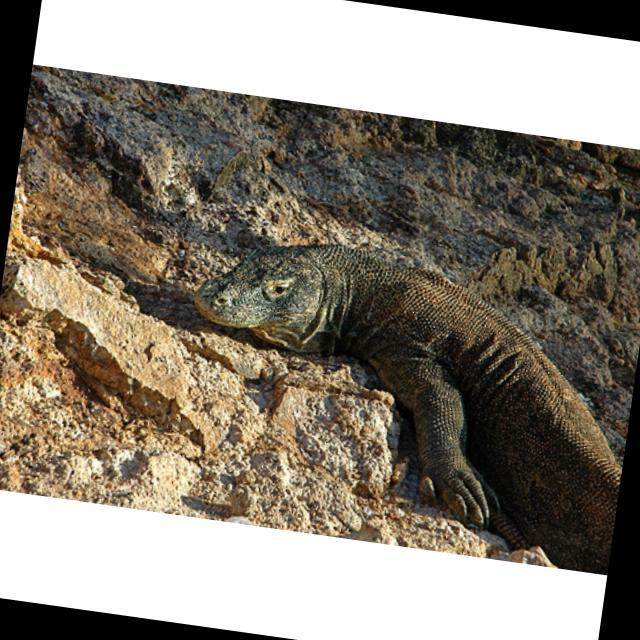KomodoDragon: (164, 220, 640, 571)
